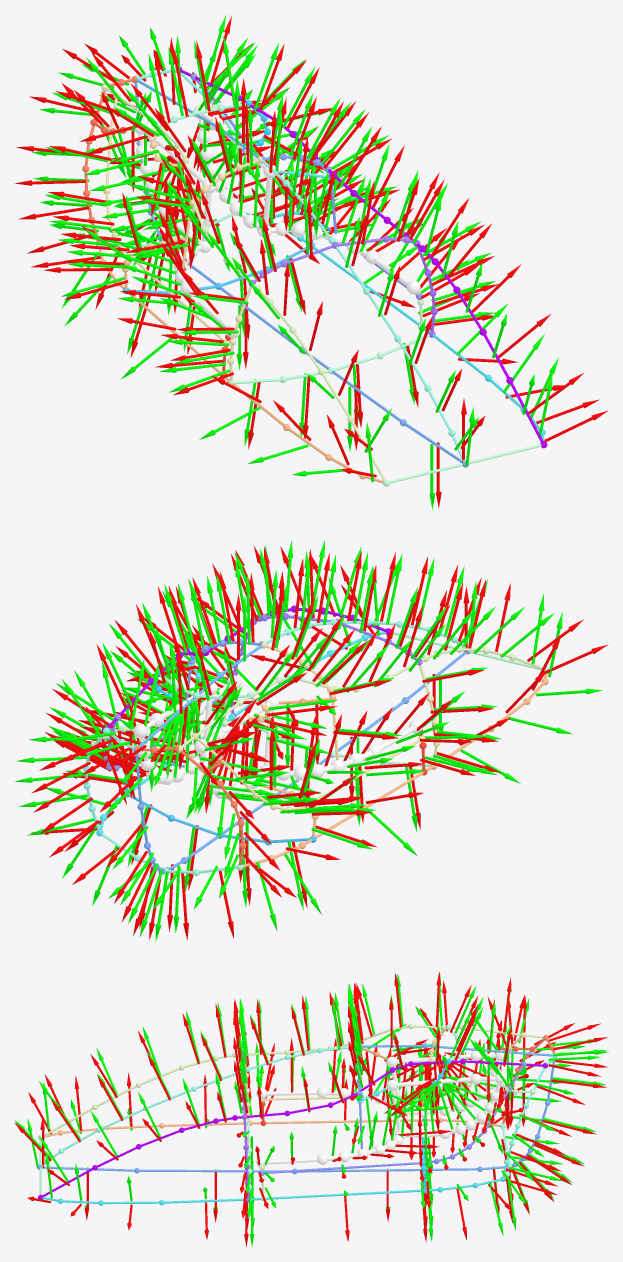
The model's file is t2f_hand_vacuum.gltf.
3 renders of one model, top to bottom at view 1: azimuth 30°, elevation 25°; view 2: azimuth 150°, elevation 25°; view 3: azimuth 270°, elevation 25°, orthographic. The views are drawn at different scales.
Bounding box in the file's own units: 0.5221 × 0.4443 × 1.05.
